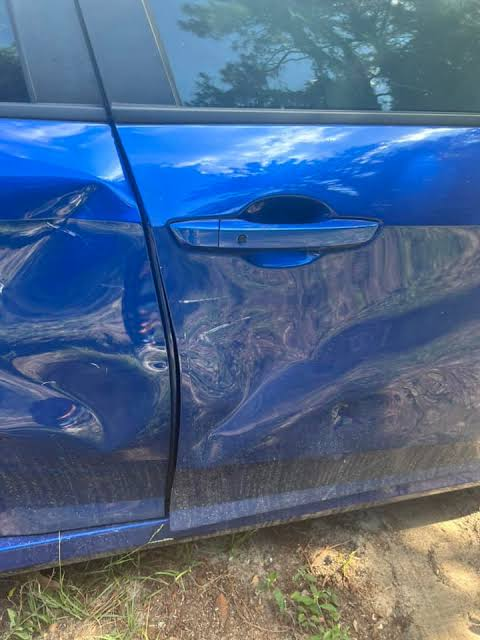doorouter-dent: (164, 128, 480, 511), (0, 117, 162, 537)
